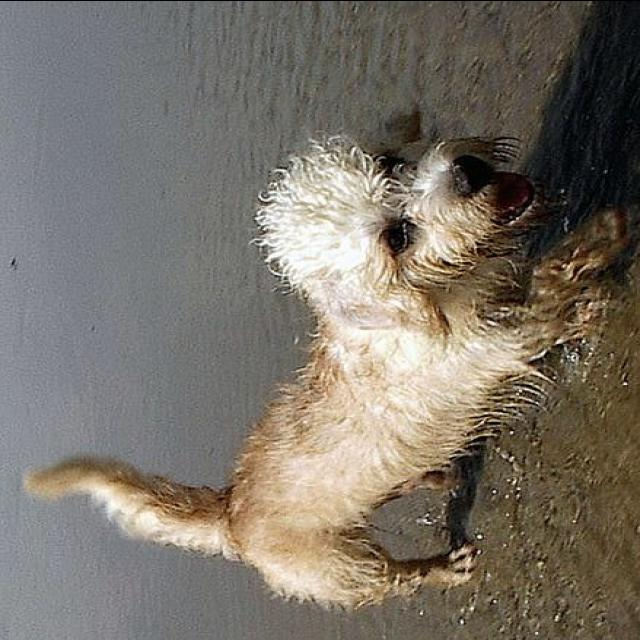dandie_dinmont: (24, 133, 624, 611)
